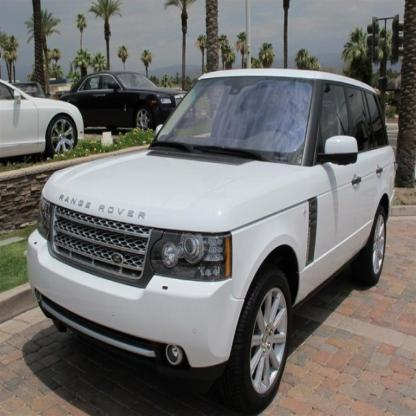Vehicle: (27, 69, 399, 415)
